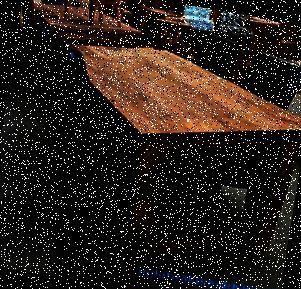Mesa: (26, 35, 300, 288)
Silla: (21, 32, 198, 257), (146, 38, 300, 238), (11, 16, 155, 196), (124, 25, 246, 197)
